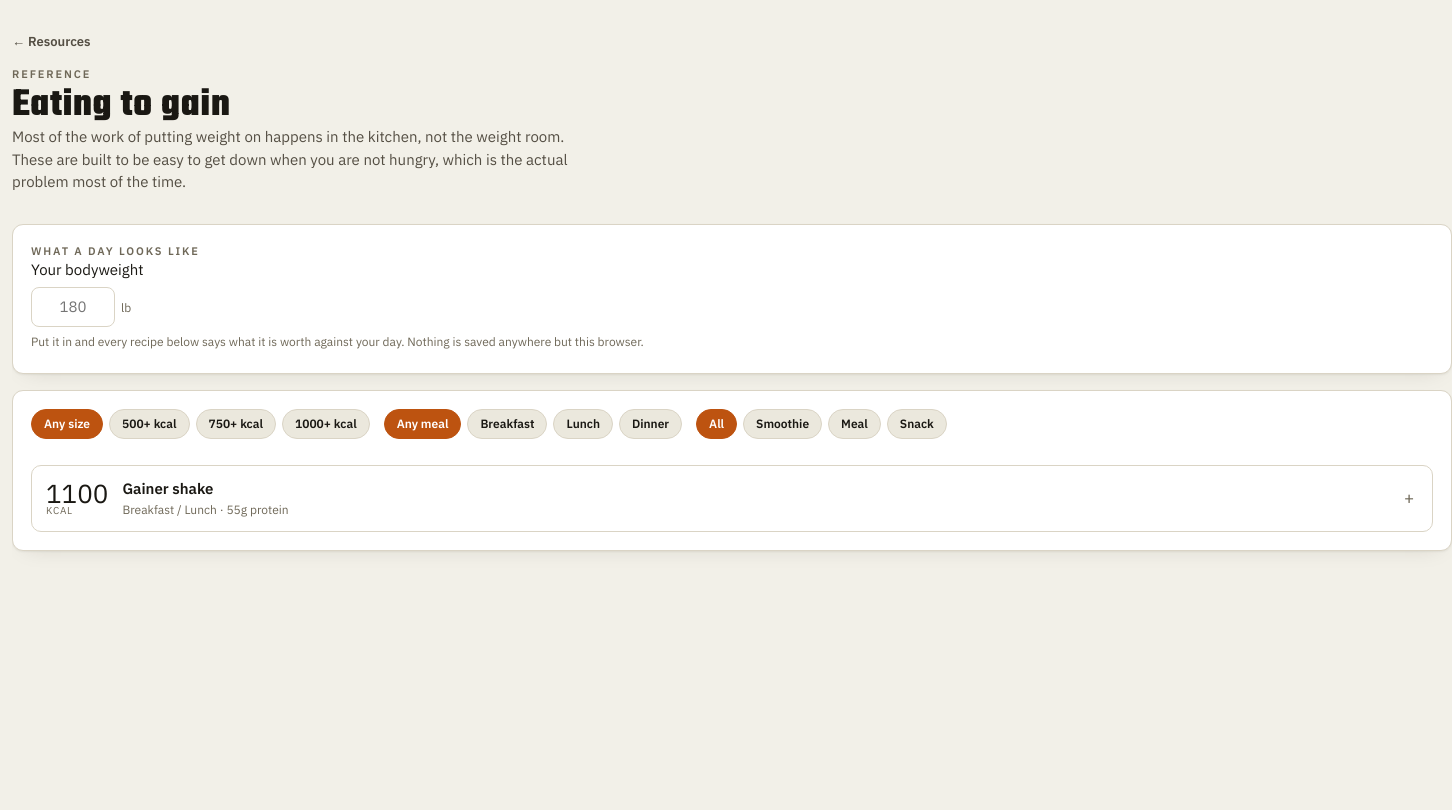
Test case: opening one shows the ingredients and the method
Step 1. Click the button with class "nu-head" → click(77, 493), box [32,466,1432,530]
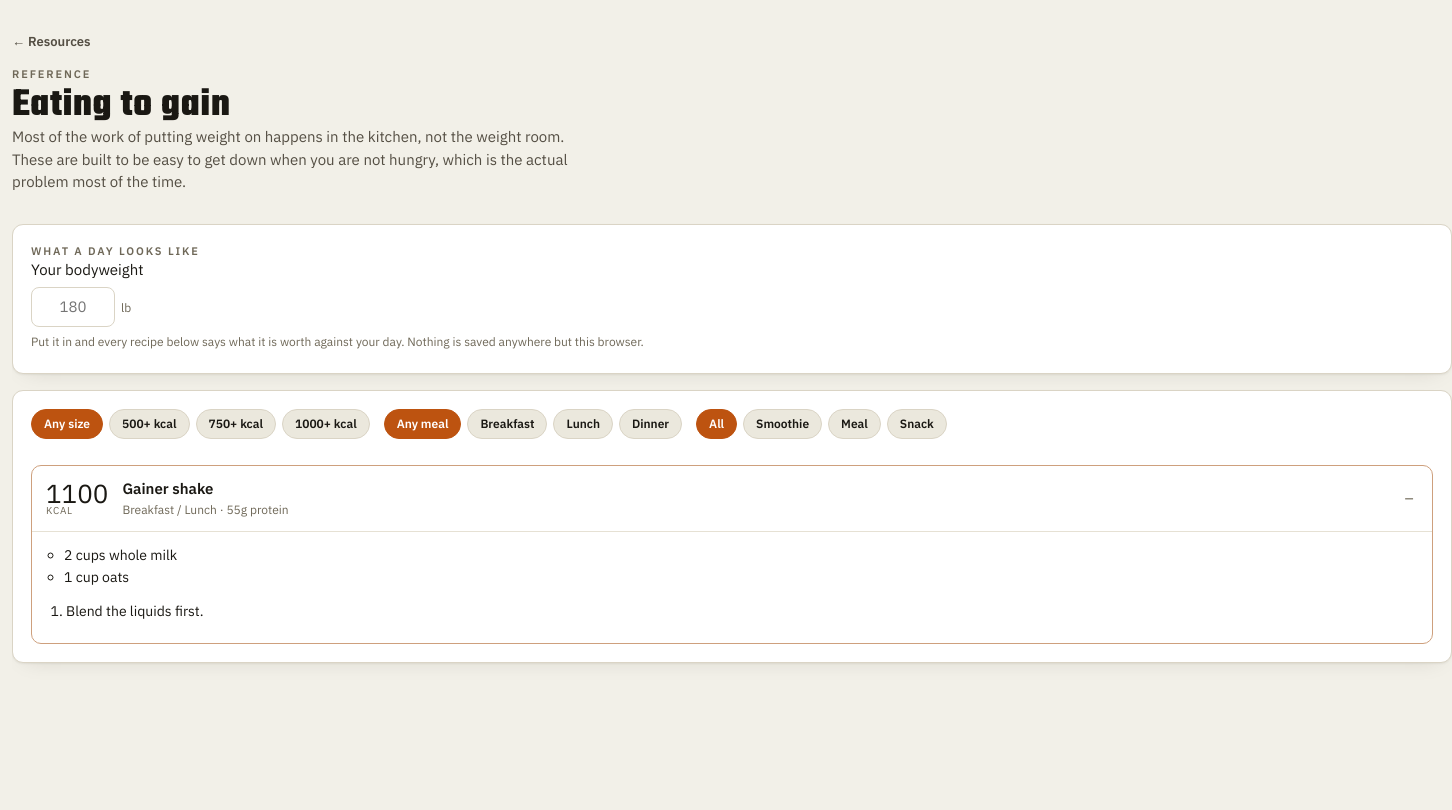
Check: the list item "2 cups whole milk" is shown, box [64,546,177,564]
Check: the list item "Blend the liquids first." is shown, box [66,602,204,620]
